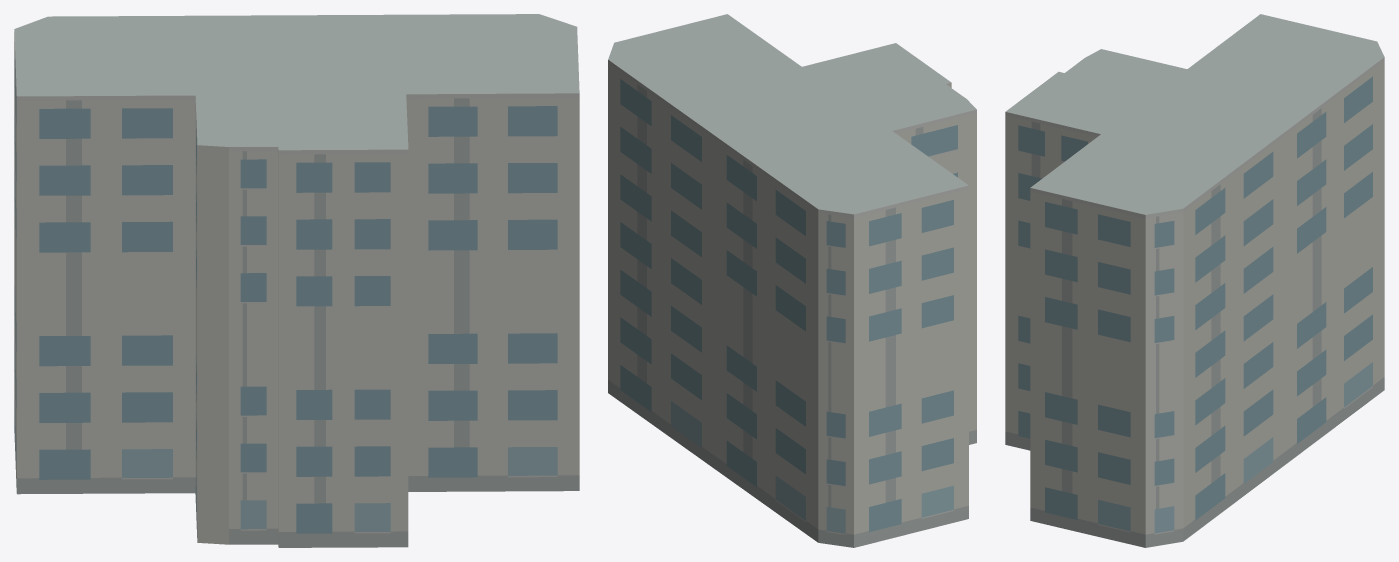
The model's file is survey-upis-32918323.glb.
The picture shows the model from 3 angles, left to right: view 1: azimuth 30°, elevation 25°; view 2: azimuth 150°, elevation 25°; view 3: azimuth 270°, elevation 25°; orthographic projection. The views are drawn at different scales.
Visible parts, largest first — view 1: survey-upis-32918323.tmp; view 2: survey-upis-32918323.tmp; view 3: survey-upis-32918323.tmp.
Part boxes in pixels (x1=…): survey-upis-32918323.tmp: x1=14, y1=14, x2=579, y2=547; survey-upis-32918323.tmp: x1=608, y1=14, x2=976, y2=547; survey-upis-32918323.tmp: x1=1005, y1=14, x2=1384, y2=547.
Size of the model in its own units: 29.45 by 22.75 by 23.49.
